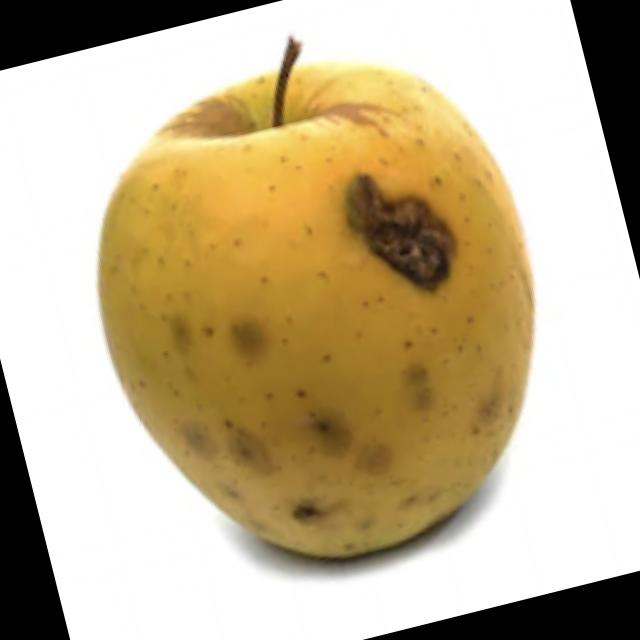rotten_apple: (46, 8, 587, 604)
